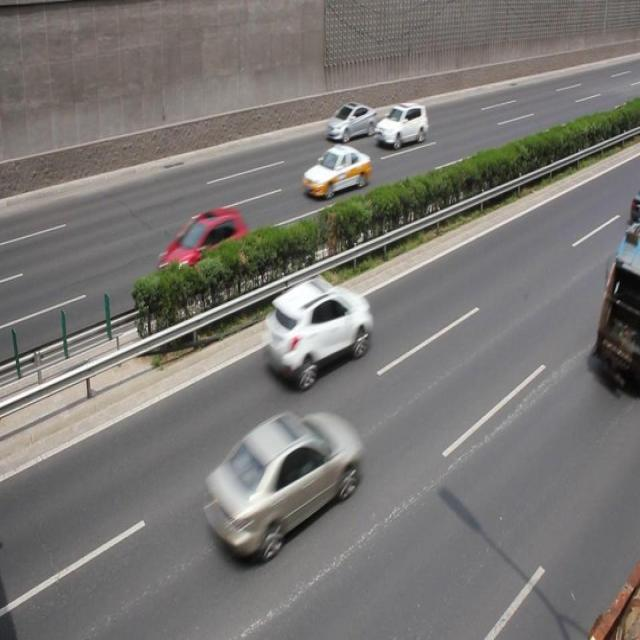bus: (594, 190, 640, 388)
car: (202, 412, 363, 554), (262, 277, 372, 387), (157, 206, 251, 296), (300, 143, 371, 201), (374, 104, 428, 148), (326, 100, 376, 144)
